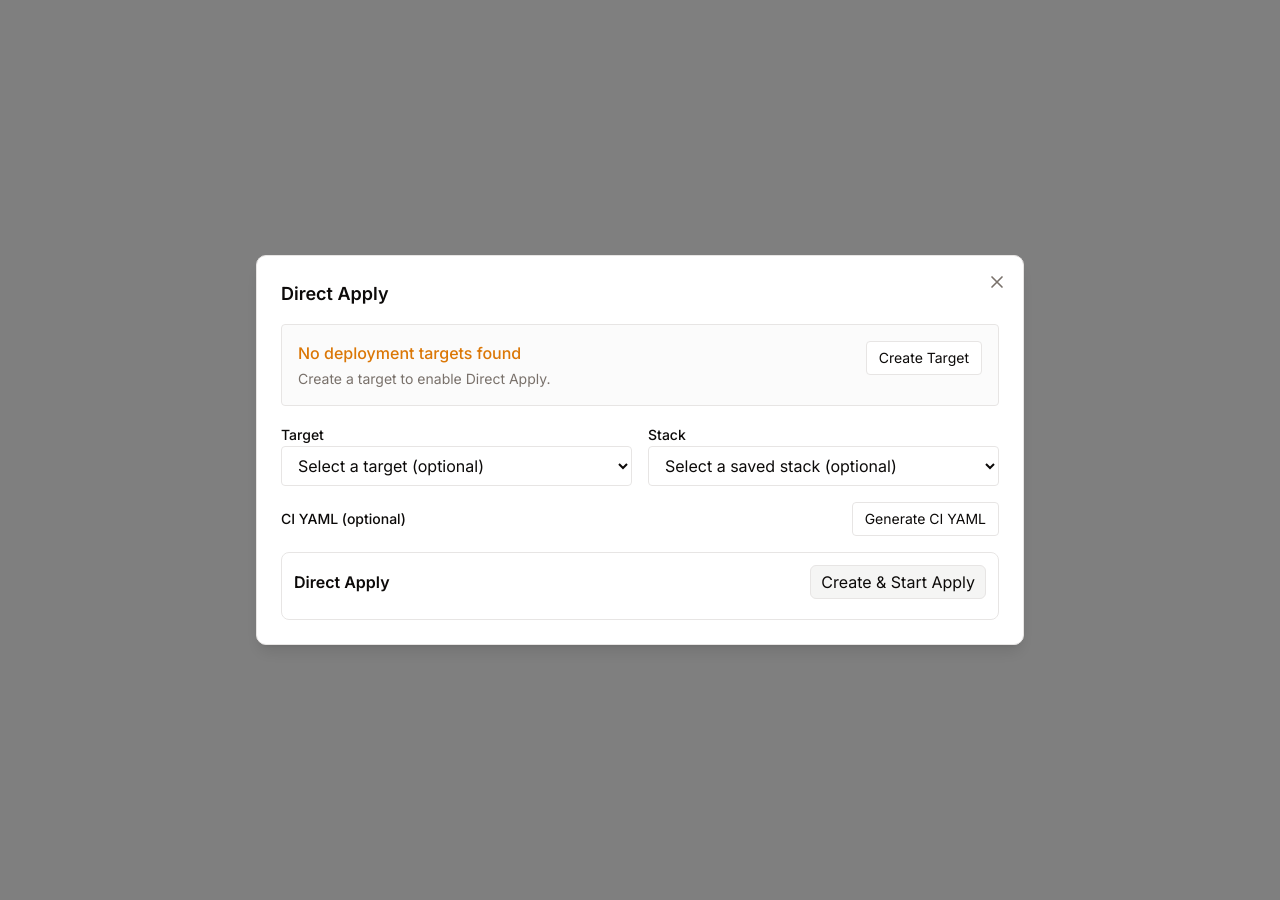
ApplyModal › shows empty-state and allows creating a target inline
The image size is (1280, 900).
Expected: the text "No deployment targets found" is shown, [298,341,550,365]
Note: Open create target form
Step 1. Click the button with test id "apply-create-target-toggle" → [924, 358], box [866,341,982,375]
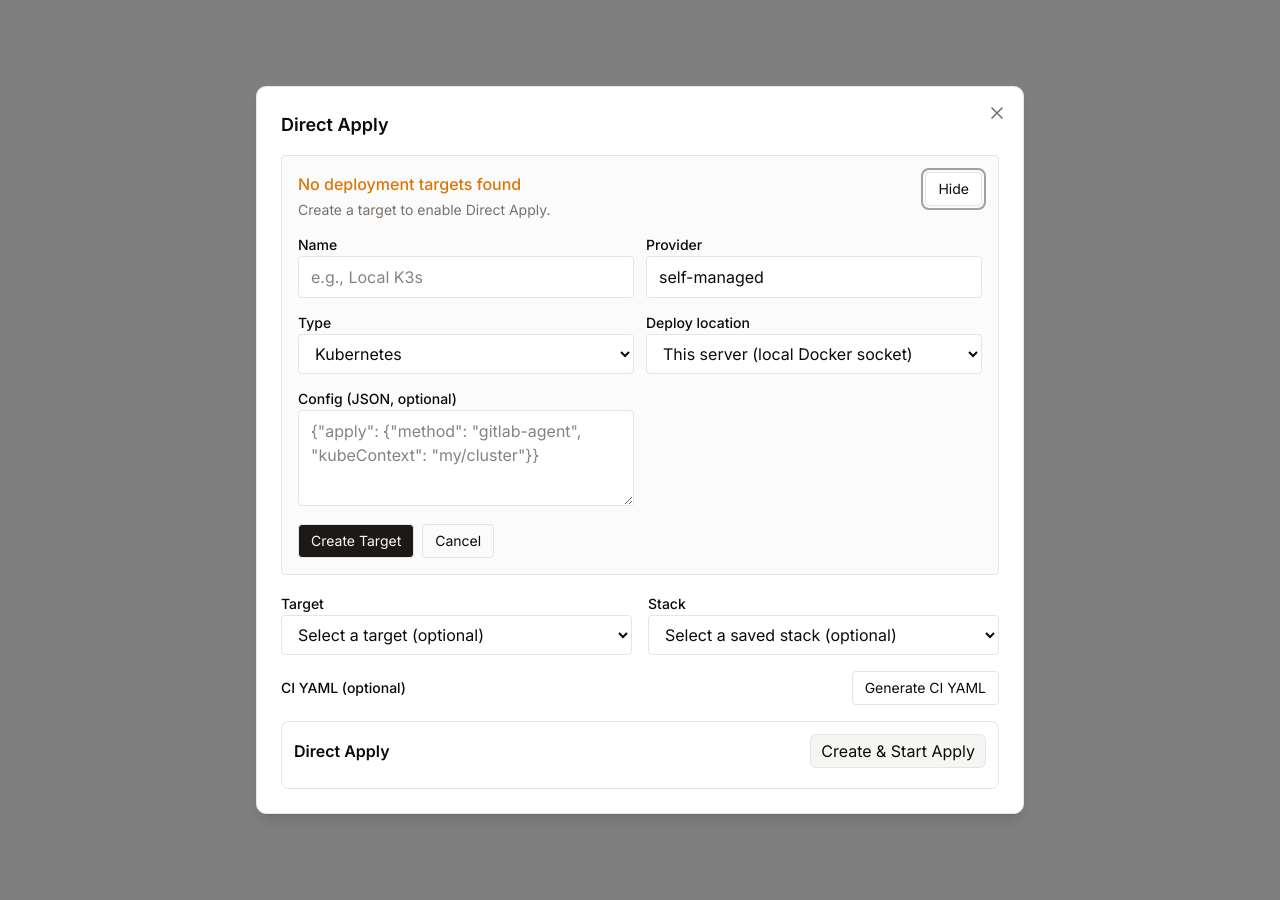
Note: Fill in name and submit (provider/type defaults are fine)
Step 2. Type "Local K3s" into the field labelled "Name" → [466, 277], box [298,256,634,298]
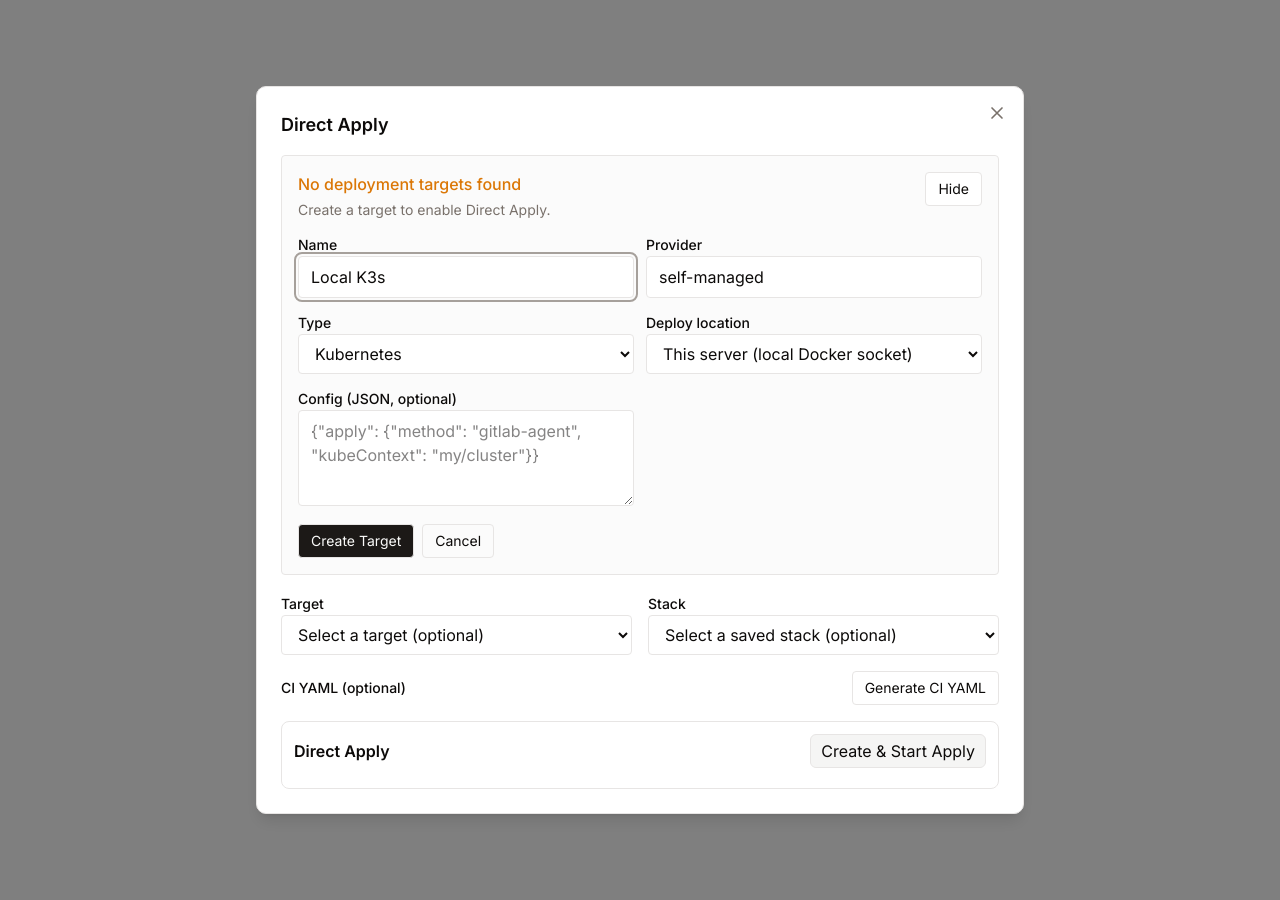
Step 3. Click the button "Create Target" → [356, 541], box [298,524,414,558]
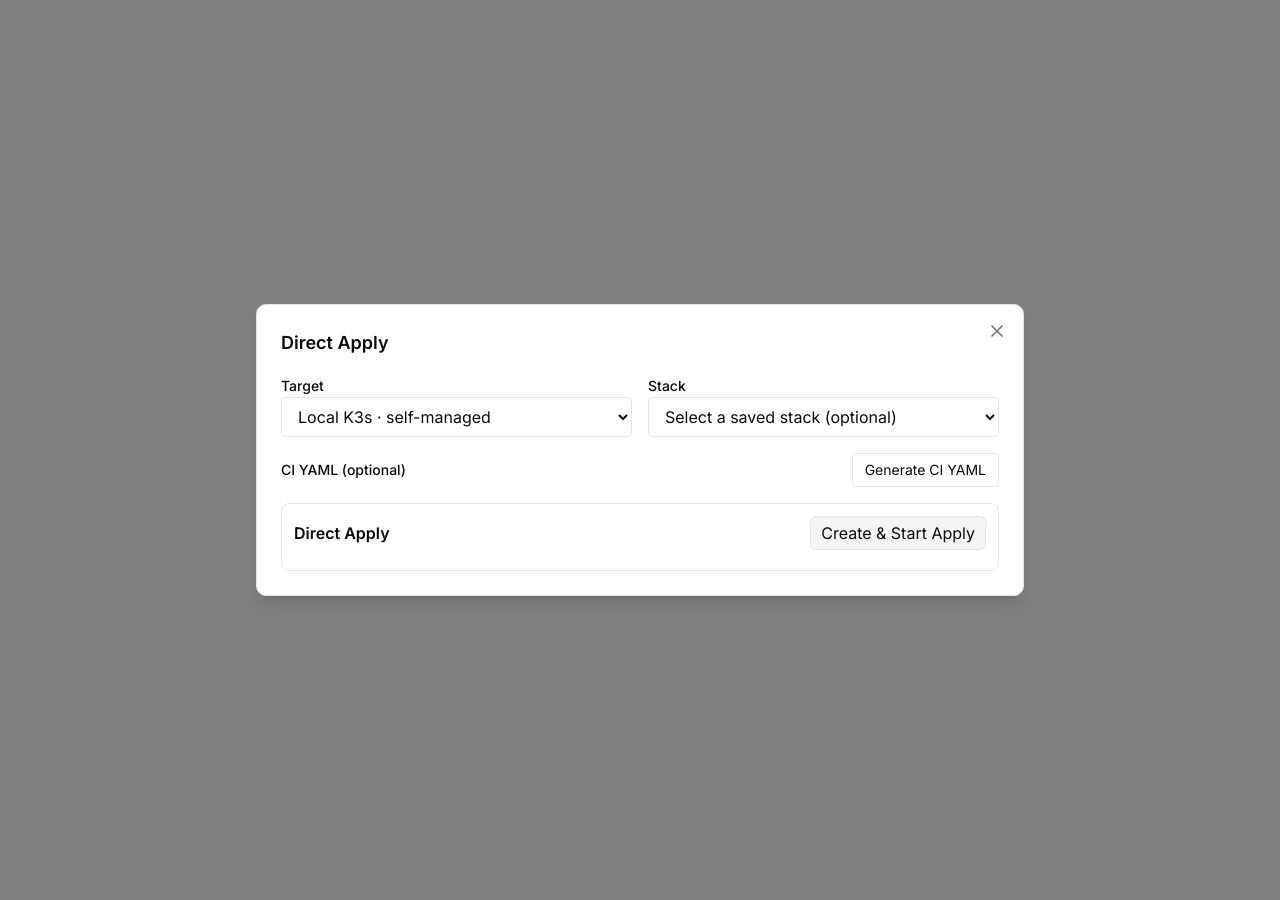
Expected: the dropdown with test id "apply-target-select" shows "Local K3s · self-managed", [281,397,632,437]
